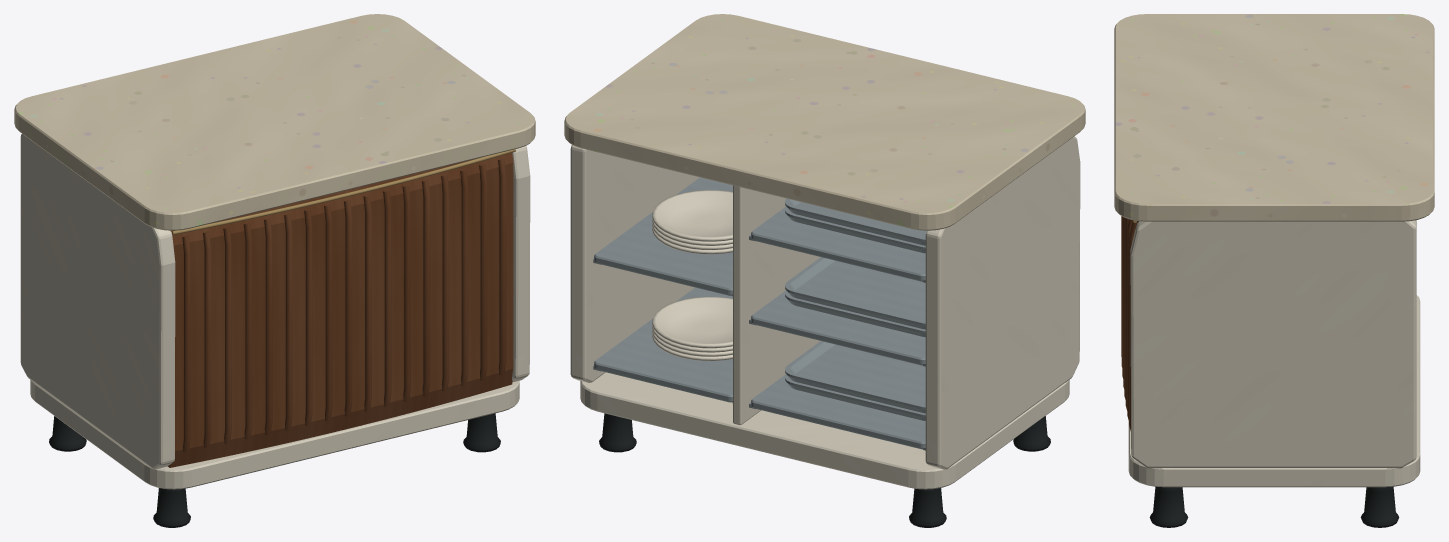
File: AST-HSP-005.glb
3 views of the same model, side by side, from view 1: azimuth 30°, elevation 25°; view 2: azimuth 150°, elevation 25°; view 3: azimuth 270°, elevation 25° (orthographic).
Visible parts, largest first — view 1: 005_fixed_carcass__warm_walnut, 005_fixed_carcass__warm_stone, 005_fixed_carcass__ivory_enamel, 005_fixed_carcass__dark_rubber, 005_fixed_carcass__champagne_metal; view 2: 005_fixed_carcass__ivory_enamel, 005_fixed_carcass__warm_stone, 005_fixed_carcass__staff_zinc, 005_tray_stock_0__staff_zinc, 005_tray_stock_1__staff_zinc, 005_plate_stock_1__ivory_enamel, 005_plate_stock_0__ivory_enamel, 005_fixed_carcass__dark_rubber, 005_tray_stock_2__staff_zinc; view 3: 005_fixed_carcass__ivory_enamel, 005_fixed_carcass__warm_stone, 005_fixed_carcass__dark_rubber, 005_fixed_carcass__warm_walnut.
Boxes of the visible parts, left/top/right/bottom form: 005_fixed_carcass__warm_walnut: left=167, top=152, right=513, bottom=467; 005_fixed_carcass__warm_stone: left=14, top=14, right=535, bottom=230; 005_fixed_carcass__ivory_enamel: left=20, top=134, right=530, bottom=489; 005_fixed_carcass__dark_rubber: left=49, top=413, right=500, bottom=527; 005_fixed_carcass__champagne_metal: left=172, top=149, right=515, bottom=234; 005_fixed_carcass__ivory_enamel: left=570, top=136, right=1080, bottom=489; 005_fixed_carcass__warm_stone: left=564, top=14, right=1085, bottom=230; 005_fixed_carcass__staff_zinc: left=593, top=177, right=925, bottom=450; 005_tray_stock_0__staff_zinc: left=785, top=341, right=925, bottom=420; 005_tray_stock_1__staff_zinc: left=785, top=257, right=925, bottom=337; 005_plate_stock_1__ivory_enamel: left=652, top=190, right=732, bottom=254; 005_plate_stock_0__ivory_enamel: left=652, top=296, right=732, bottom=360; 005_fixed_carcass__dark_rubber: left=599, top=413, right=1050, bottom=527; 005_tray_stock_2__staff_zinc: left=785, top=198, right=926, bottom=253; 005_fixed_carcass__ivory_enamel: left=1128, top=220, right=1420, bottom=487; 005_fixed_carcass__warm_stone: left=1114, top=14, right=1434, bottom=221; 005_fixed_carcass__dark_rubber: left=1149, top=486, right=1399, bottom=527; 005_fixed_carcass__warm_walnut: left=1121, top=216, right=1138, bottom=431.
Size of the model in its own units: 1.1 by 0.9 by 0.78.
Materials: 6 (6 with a texture image).
